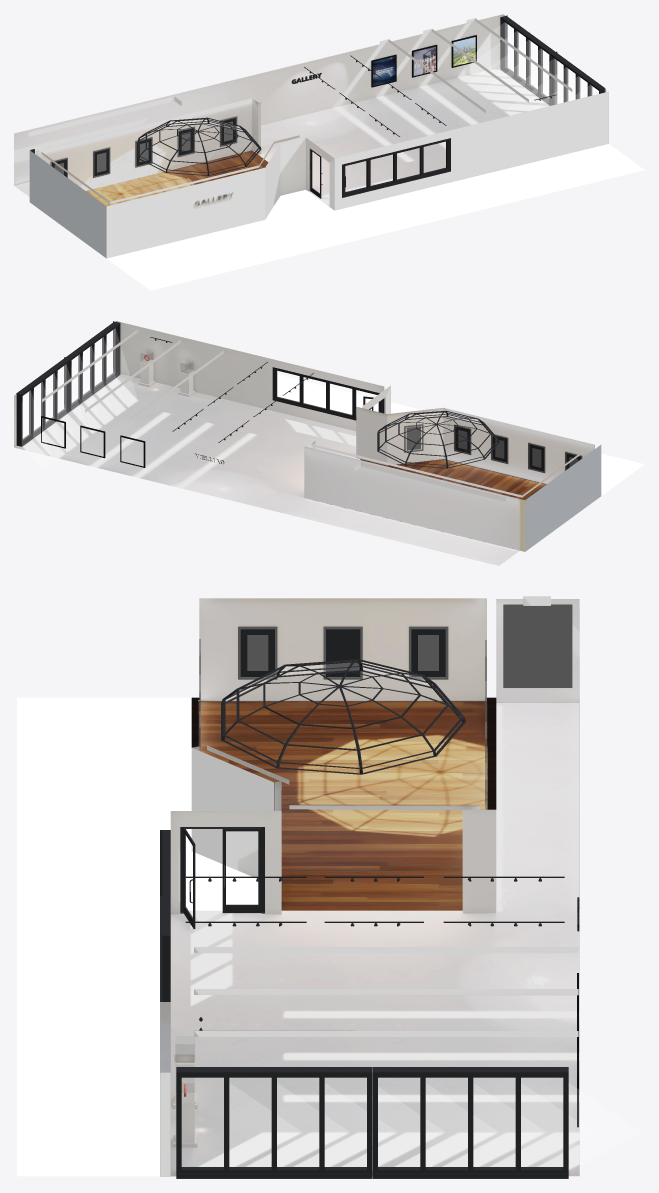
File: art-gallery26.glb
3 renders of one model, top to bottom at view 1: azimuth 30°, elevation 25°; view 2: azimuth 150°, elevation 25°; view 3: azimuth 270°, elevation 25°, orthographic. The views are drawn at different scales.
Parts seen in each view (by area): view 1: ParedesPrincipais, Paredes, Chao_entrada.001, Chao_entrada, fake_volume.001, Metais, Chao_madeira, Sphere.002, Todos os quadros, Quadros_entrada, p_DNA Project, p_Real Estate Project (+1 smaller); view 2: Chao_entrada, ParedesPrincipais, Paredes, Metais, fake_volume.001, Chao_entrada.001, Chao_madeira, Todos os quadros, Sphere.002, Quadros_entrada; view 3: Chao_entrada, Chao_entrada.001, Chao_madeira, Paredes, Metais, ParedesPrincipais, fake_volume.001, Todos os quadros, Sphere.002, p_Threejs Favorites.
Boxes of the visible parts, bbox=[...] form: ParedesPrincipais: bbox=[14, 14, 608, 210]; Paredes: bbox=[29, 98, 334, 258]; Chao_entrada.001: bbox=[107, 144, 644, 290]; Chao_entrada: bbox=[14, 67, 549, 206]; fake_volume.001: bbox=[458, 23, 598, 115]; Metais: bbox=[304, 15, 605, 198]; Chao_madeira: bbox=[86, 150, 268, 206]; Sphere.002: bbox=[138, 117, 261, 175]; Todos os quadros: bbox=[50, 116, 237, 177]; Quadros_entrada: bbox=[371, 35, 476, 87]; p_DNA Project: bbox=[373, 56, 395, 85]; p_Real Estate Project: bbox=[413, 46, 435, 75]; Chao_entrada: bbox=[14, 374, 519, 565]; ParedesPrincipais: bbox=[14, 321, 524, 551]; Paredes: bbox=[309, 385, 601, 551]; Metais: bbox=[16, 321, 384, 446]; fake_volume.001: bbox=[22, 329, 137, 469]; Chao_entrada.001: bbox=[277, 374, 644, 495]; Chao_madeira: bbox=[360, 459, 546, 499]; Todos os quadros: bbox=[404, 424, 582, 472]; Sphere.002: bbox=[377, 410, 499, 468]; Quadros_entrada: bbox=[41, 416, 145, 467]; Chao_entrada: bbox=[160, 702, 579, 1176]; Chao_entrada.001: bbox=[17, 697, 258, 1176]; Chao_madeira: bbox=[191, 697, 496, 910]; Paredes: bbox=[191, 598, 486, 878]; Metais: bbox=[160, 827, 568, 1178]; ParedesPrincipais: bbox=[160, 596, 579, 1175]; fake_volume.001: bbox=[230, 1083, 641, 1170]; Todos os quadros: bbox=[199, 604, 572, 809]; Sphere.002: bbox=[221, 659, 465, 774]; p_Threejs Favorites: bbox=[326, 629, 360, 676].
Bounding box in the file's own units: 62.24 × 8.29 × 34.22.
18 materials, 8 textured.
